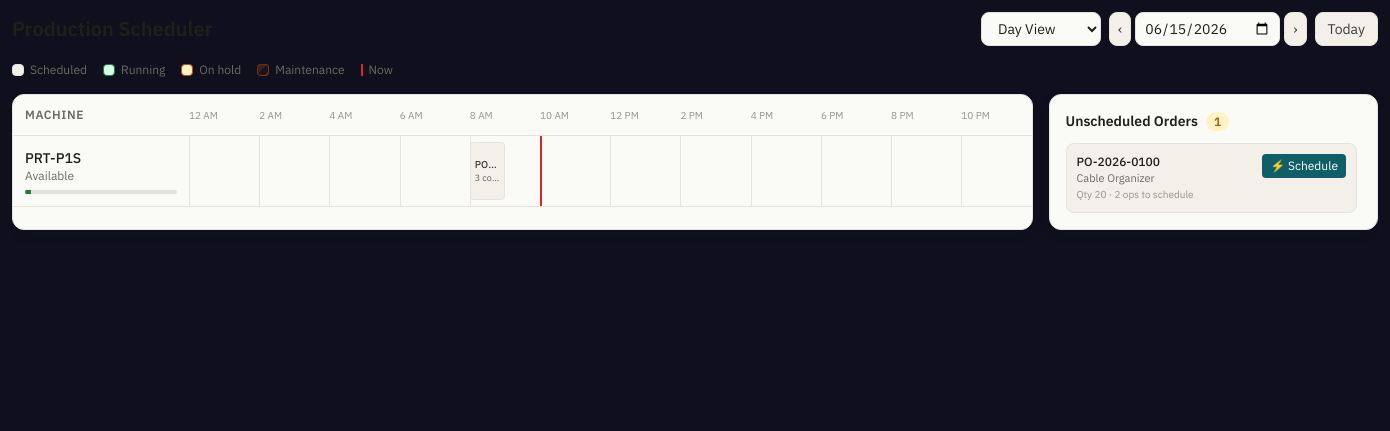
Test: SchedulerBoard › co-booked operations (print-batch S4) › choosing a member opens the scheduler modal for that member
The width and height of the screenshot is (1390, 431).
Click the button with test id "gantt-block-31" at (487, 171), box top-left (470, 142), bottom-right (505, 200)
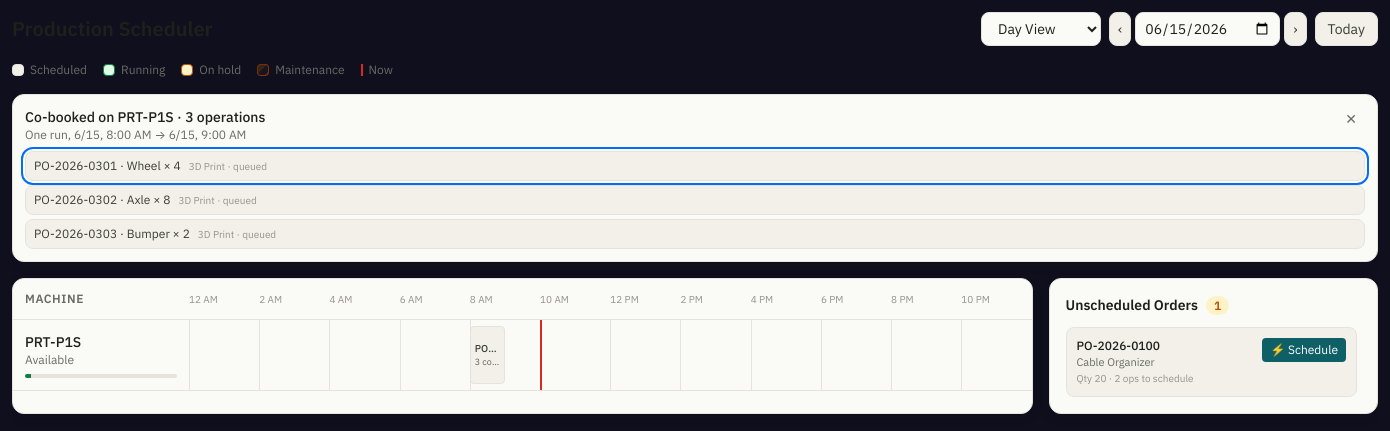
Click the button with test id "cobooked-member-32" at (102, 200), box top-left (25, 185), bottom-right (1365, 215)
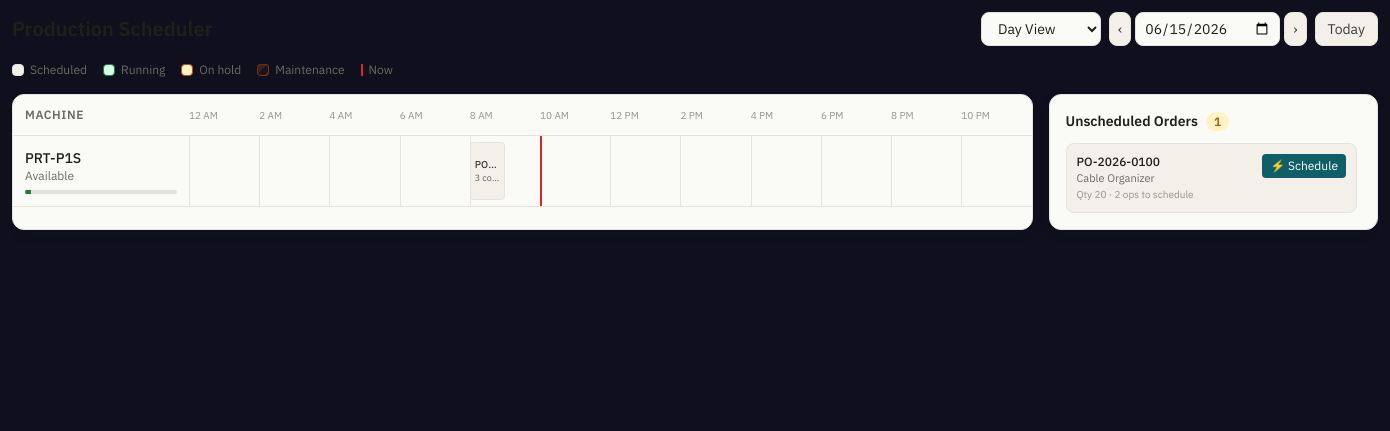
Expected: the element with test id "cobooked-members" is gone
